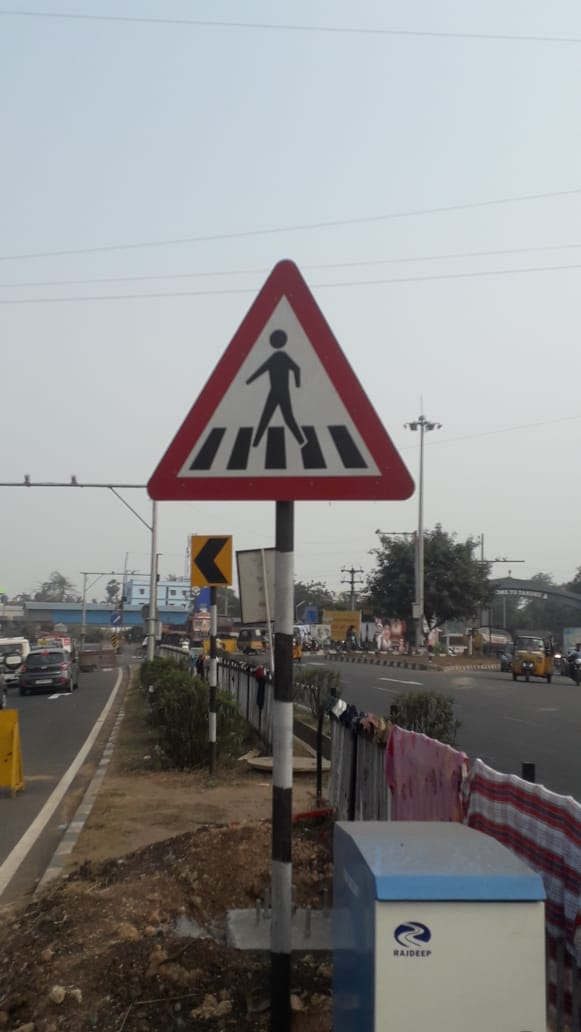pedestrian crossing: (145, 260, 416, 509)
